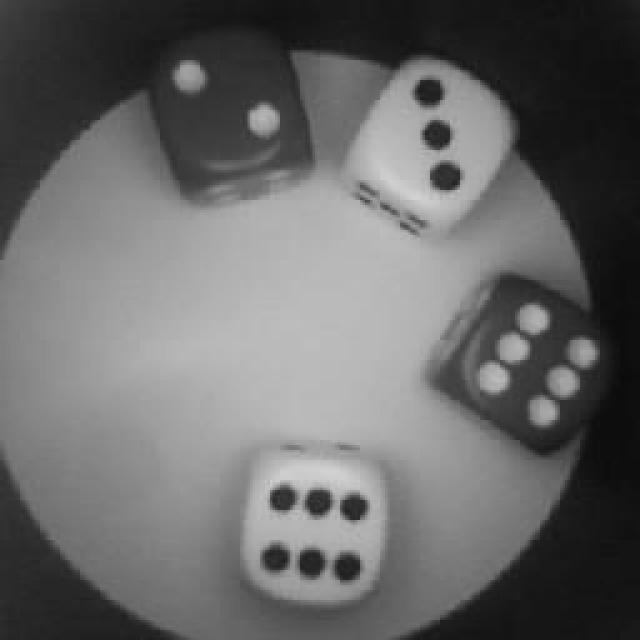dice_2: (150, 32, 312, 198)
dice_3: (355, 63, 517, 215)
dice_6: (438, 283, 612, 445), (240, 452, 388, 602)
